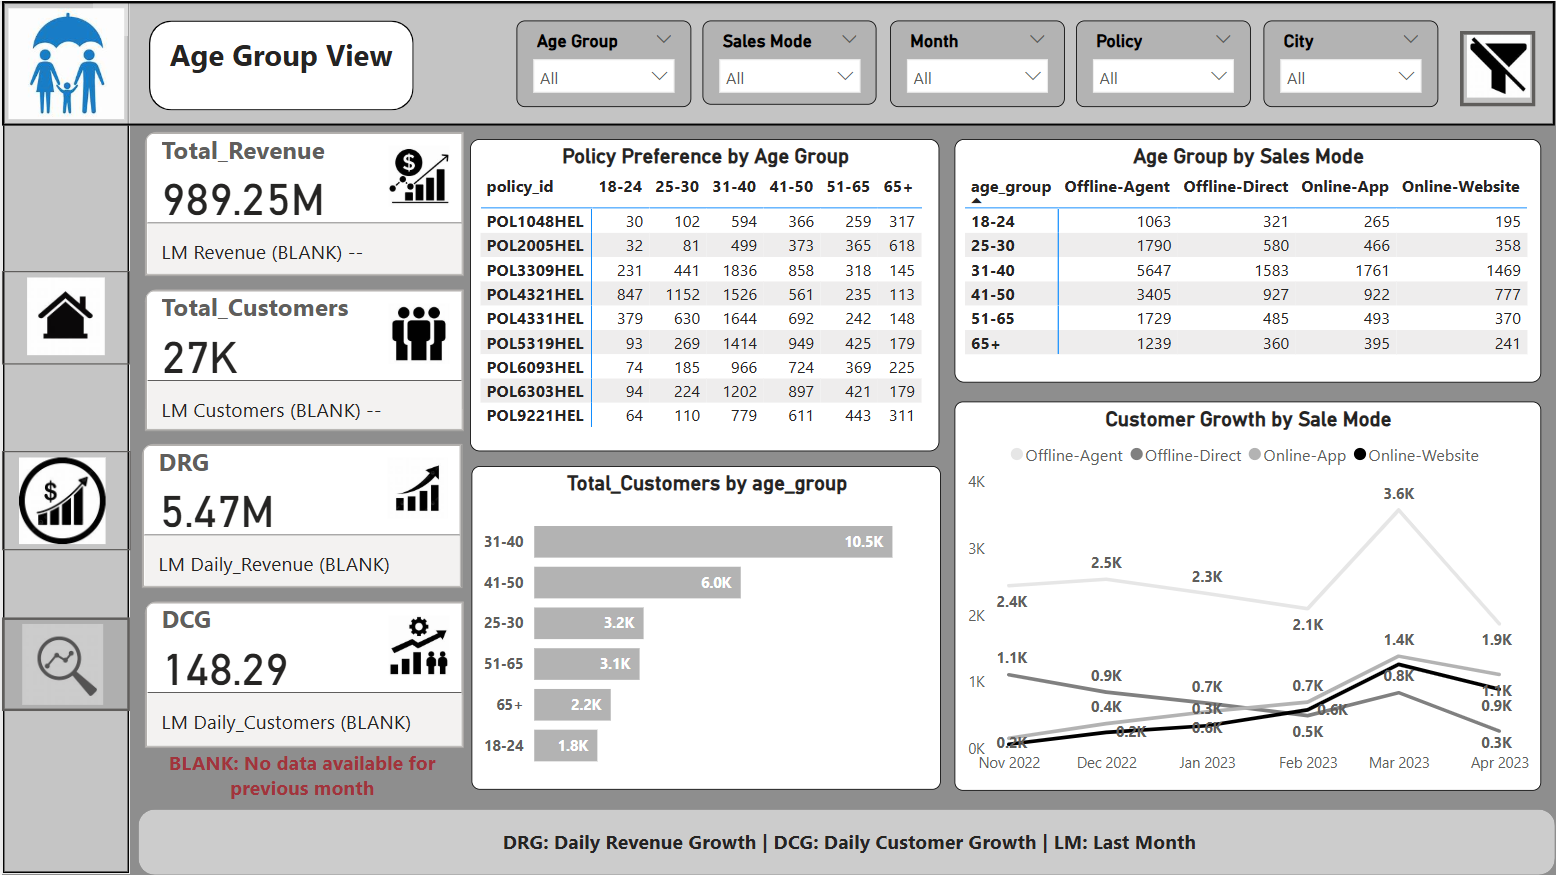

The dashboard page shown, as its layout file describes it:
{"tool":"powerbi","page":{"name":"Age Analysis","canvas":[1280,720],"ordinal":2},"visuals":[{"type":"shape","box":[0,0,105.4,719.1],"z":0},{"type":"shape","box":[0,0,1279.5,103],"z":1000},{"type":"image","box":[0,0,105.4,102.7],"z":2000},{"type":"image","box":[0,223,105.4,74.3],"z":3000},{"type":"image","box":[0,371,99.9,81.8],"z":4000},{"type":"image","box":[0,508.2,100,77],"z":5000},{"type":"actionButton","box":[0,371,106,81.8],"z":6000},{"type":"actionButton","box":[0,223,105.4,77],"z":7000},{"type":"actionButton","box":[0,508.2,105.4,77],"z":8000},{"type":"slicer","fields":{"Values":["dim_customer.age_group"]},"box":[424,15.9,143.8,71.2],"z":9000},{"type":"slicer","fields":{"Values":["dim_policies.policy_id"]},"box":[885.1,16.3,143.8,71.2],"z":10000},{"type":"slicer","fields":{"Values":["fact_premiums.sales_mode"]},"box":[577.6,16.1,143.6,69.4],"z":11000},{"type":"slicer","fields":{"Values":["dim_date.mmm_yy"]},"box":[731.4,15.5,143.8,71.2],"z":12000},{"type":"slicer","fields":{"Values":["dim_customer.city"]},"box":[1038.7,16.7,143.8,71.2],"z":13000},{"type":"image","box":[1196.2,22.7,72.7,62.1],"z":14000},{"type":"shape","box":[121.1,16.7,218,74.2],"z":15000},{"type":"textbox","box":[121.6,22.1,217.9,63.2],"z":16000},{"type":"cardVisual","fields":{"Data":["Measure Table.Total_Revenue"]},"box":[112.1,102.6,273.2,129.5],"z":17000},{"type":"cardVisual","fields":{"Data":["Measure Table.Daily_Revenue"]},"box":[110.5,360,274.7,129.5],"z":18000},{"type":"cardVisual","fields":{"Data":["Measure Table.Daily_Customers"]},"box":[112.1,489.5,273.2,131.1],"z":19000},{"type":"cardVisual","fields":{"Data":["Measure Table.Total_Customers"]},"box":[112.1,232.1,273.2,127.9],"z":20000},{"type":"textbox","box":[99.5,611.1,301.6,55.3],"z":21000},{"type":"shape","box":[112.1,666.3,1166.9,53.7],"z":22000},{"type":"textbox","box":[121,676,1158.5,37.1],"z":23000},{"type":"actionButton","box":[1201.7,24.3,62.2,62.2],"z":24000},{"type":"pivotTable","title":"Policy Preference by Age Group","fields":{"Rows":["fact_premiums.policy_id"],"Columns":["dim_customer.age_group"],"Values":["Measure Table.Total_Customers"]},"box":[385.3,113.7,386.8,257.4],"z":24001},{"type":"pivotTable","title":"Age Group by Sales Mode","fields":{"Rows":["dim_customer.age_group"],"Columns":["fact_premiums.sales_mode"],"Values":["Measure Table.Total_Customers"]},"box":[784.7,113.7,483.2,200.5],"z":24002},{"type":"lineChart","title":"Customer Growth by Sale Mode","fields":{"Y":["Measure Table.Total_Customers"],"Category":["dim_date.date.Variation.Date Hierarchy.Year","dim_date.date.Variation.Date Hierarchy.Quarter","dim_date.date.Variation.Date Hierarchy.Month"],"Series":["fact_premiums.sales_mode"]},"box":[784.7,330,483.2,320.5],"z":24003},{"type":"clusteredBarChart","fields":{"Category":["dim_customer.age_group"],"Y":["Measure Table.Total_Customers"]},"box":[386.8,383.7,386.8,266.8],"z":24004}]}

Visuals, with their boxes in screenshot pixels (x1, y1, x2, y2), scaled from the page's 1280x720 canvas onto the 1556x875 screenshot:
shape: [0,0,128,874]
shape: [0,0,1555,125]
image: [0,0,128,125]
image: [0,271,128,361]
image: [0,451,121,550]
image: [0,618,122,711]
actionButton: [0,451,129,550]
actionButton: [0,271,128,365]
actionButton: [0,618,128,711]
slicer - dim_customer.age_group: [515,19,690,106]
slicer - dim_policies.policy_id: [1076,20,1251,106]
slicer - fact_premiums.sales_mode: [702,20,877,104]
slicer - dim_date.mmm_yy: [889,19,1064,105]
slicer - dim_customer.city: [1263,20,1437,107]
image: [1454,28,1543,103]
shape: [147,20,412,110]
textbox: [148,27,413,104]
cardVisual - Measure Table.Total_Revenue: [136,125,468,282]
cardVisual - Measure Table.Daily_Revenue: [134,437,468,595]
cardVisual - Measure Table.Daily_Customers: [136,595,468,754]
cardVisual - Measure Table.Total_Customers: [136,282,468,437]
textbox: [121,743,488,810]
shape: [136,810,1555,874]
textbox: [147,822,1555,867]
actionButton: [1461,30,1536,105]
"Policy Preference by Age Group" pivotTable: [468,138,939,451]
"Age Group by Sales Mode" pivotTable: [954,138,1541,382]
"Customer Growth by Sale Mode" lineChart: [954,401,1541,791]
clusteredBarChart - dim_customer.age_group x Measure Table.Total_Customers: [470,466,940,791]
